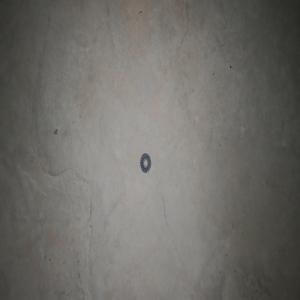Washer: (139, 152, 151, 173)
